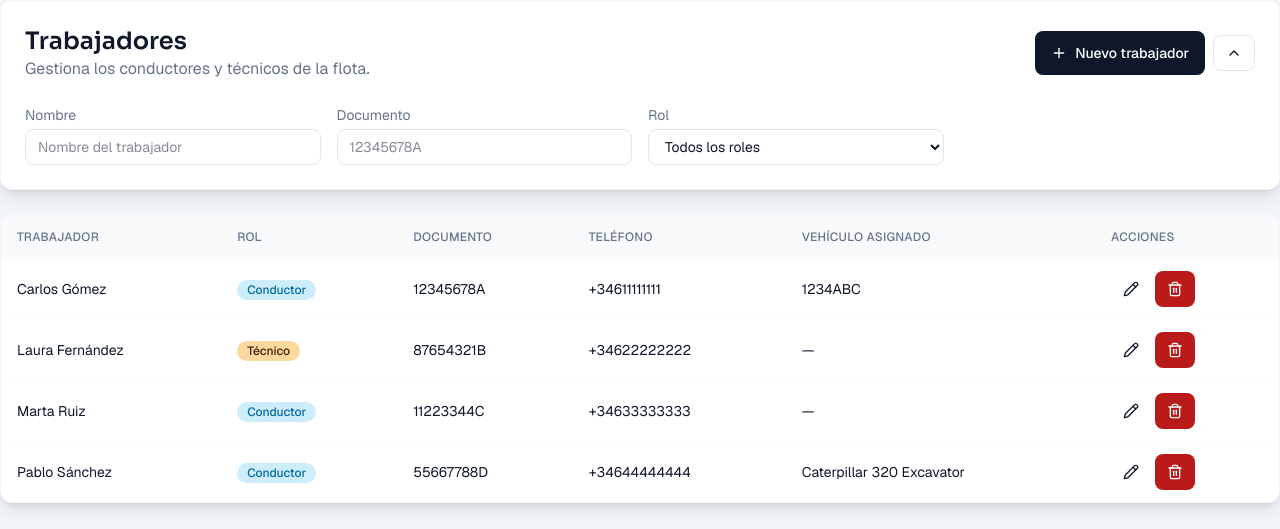
Test case: Workers › narrows the worker list with the role filter
Expected: the text "Laura Fernández" is shown, [1,320,221,380]
Select "Técnico" in the dropdown named "filtrar por rol" at (796, 147), box [648,129,944,165]
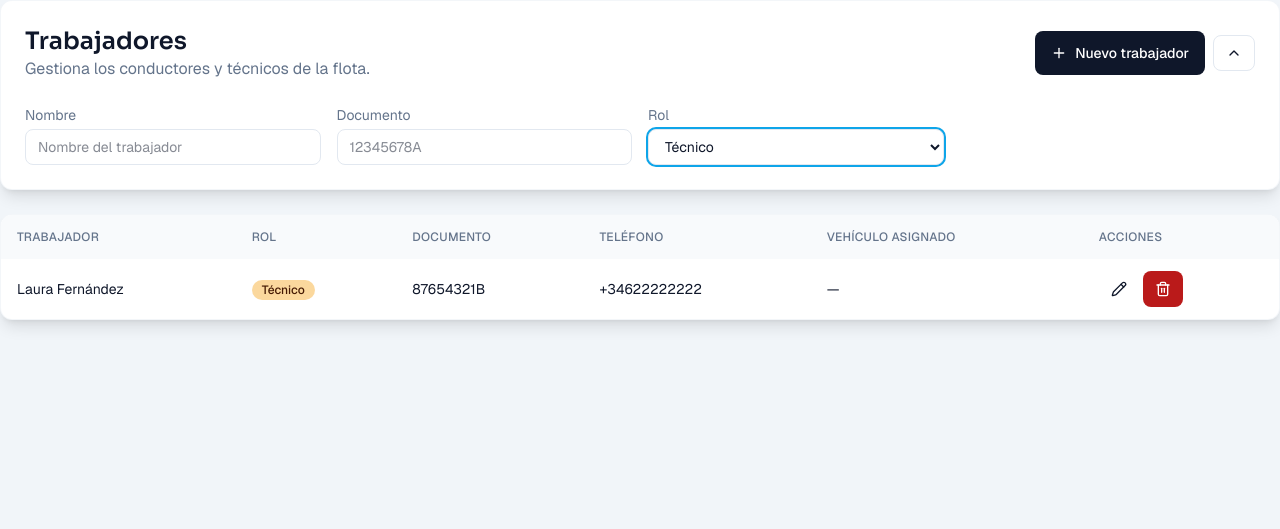
Expected: the text "Laura Fernández" is shown, [1,259,236,319]
Expected: the text "Carlos Gómez" is gone
